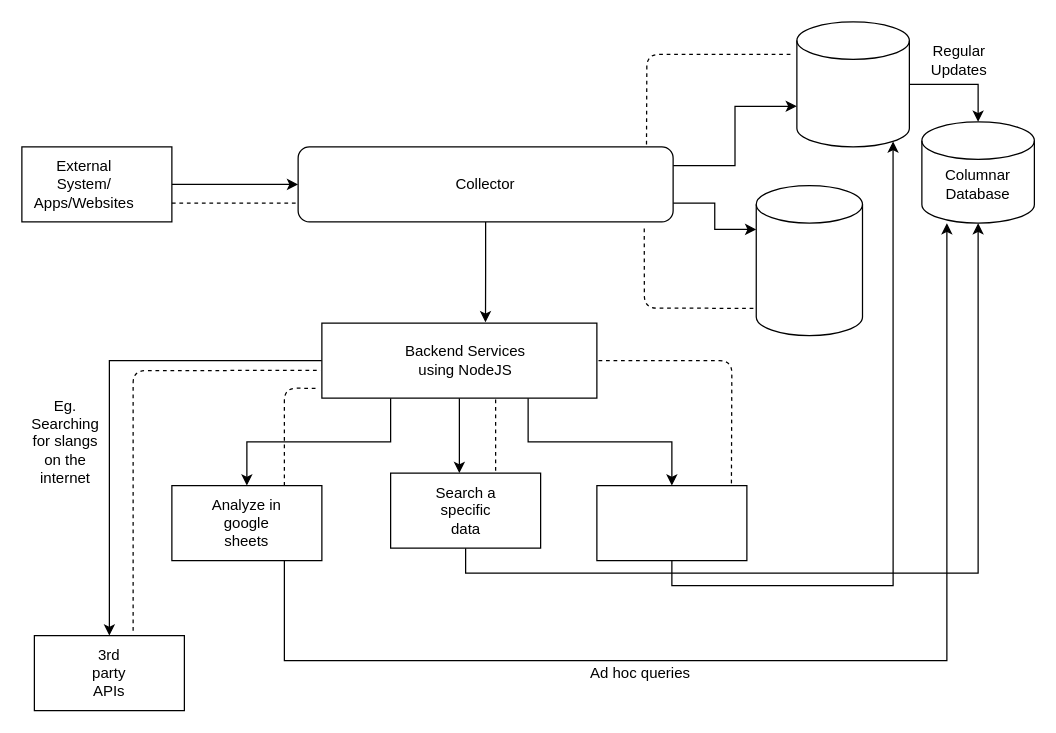
Image size: 1056x733. Some labels were removed from this diagram. The centre of each missing label's shape, as x and y in pixels:
"Any cloud based image/video hosting service" goes at point 808,260.
"Exhaustive data retrieval" goes at point 671,522.
"MongoDB Atlas" goes at point 852,84.
